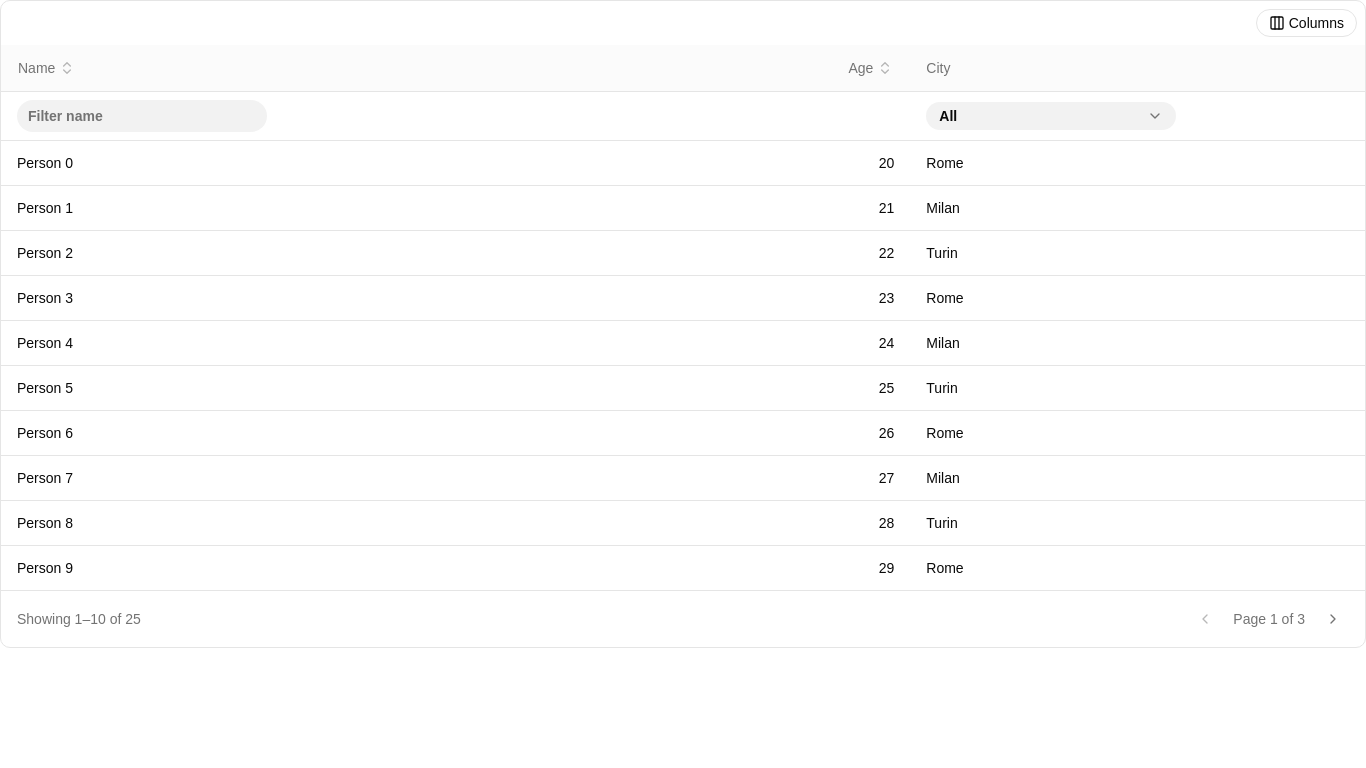
DataGrid — pagination › resets to page 1 when a filter is applied
The image size is (1366, 768).
Step 1. Click the button named "next page" → x=1333, y=619, box [1317, 603, 1349, 635]
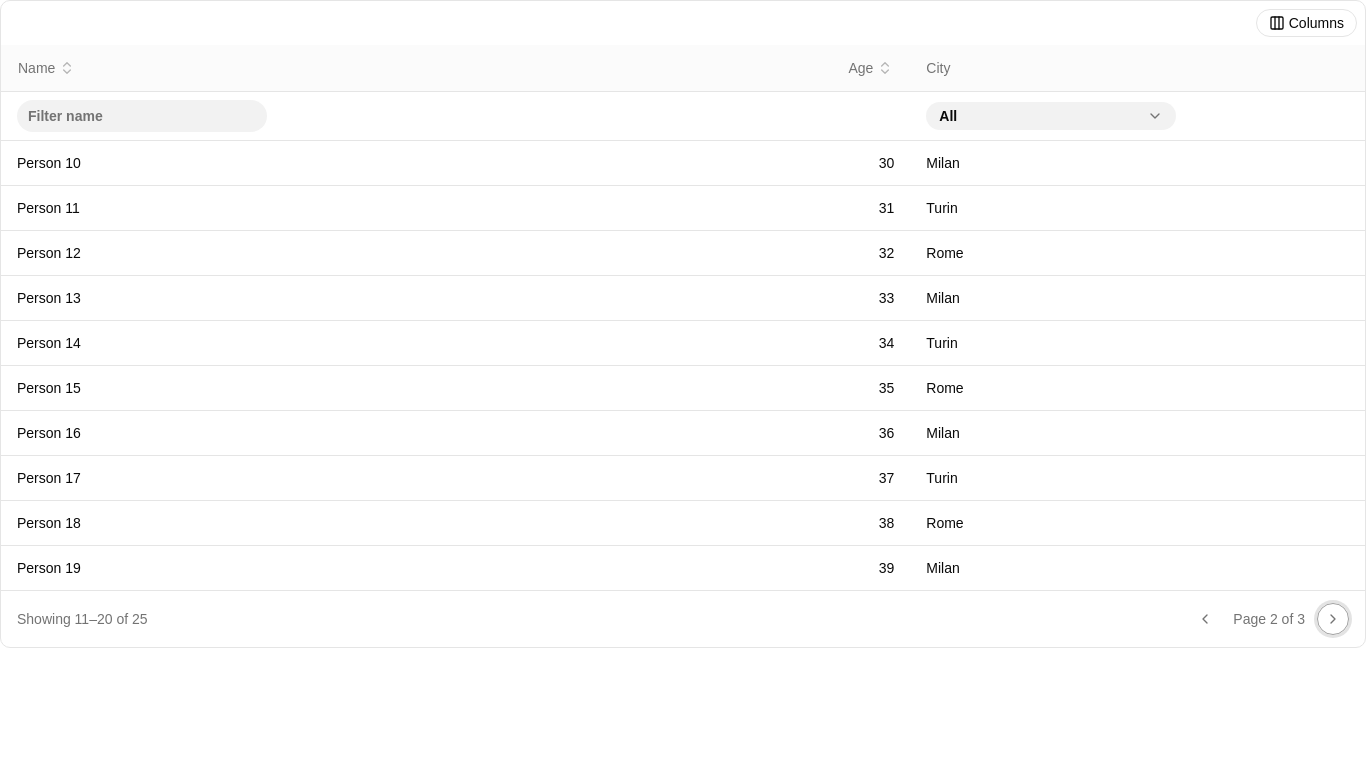
expect the text "Page 2 of 3" is shown: met, box [1233, 609, 1305, 629]
Step 2. Type "Person 1" into the field named "filter by name" → x=142, y=116, box [17, 100, 267, 132]
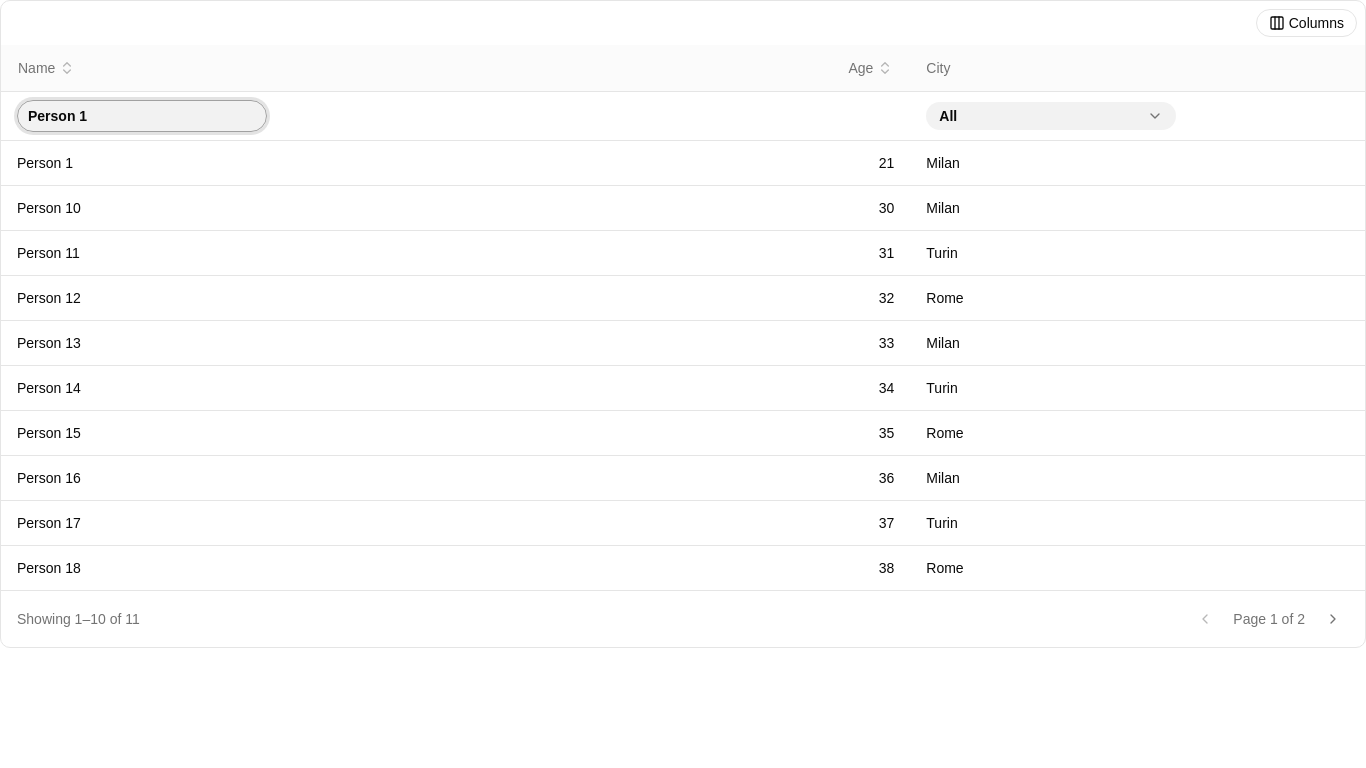
expect the text "Page 1 of 2" is shown: met, box [1233, 609, 1305, 629]
